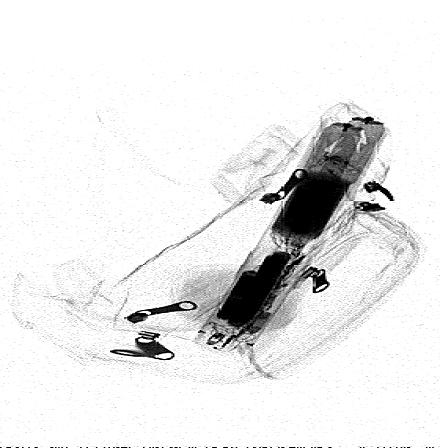Baton: (192, 115, 395, 357)
